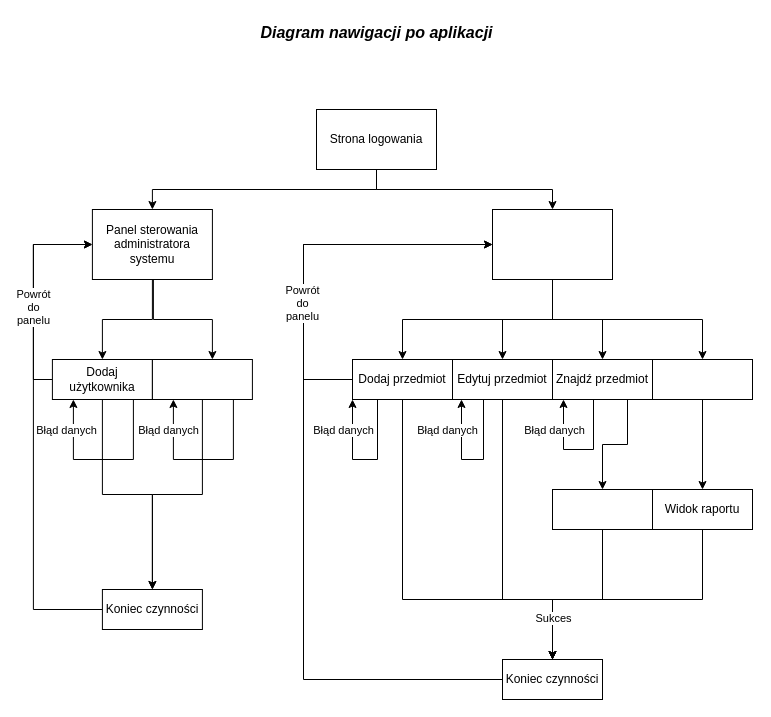
Image size: 771x717. Some labels were removed from this diagram. Each missing label, with the centre of its shape:
Edytuj użytkownika: (201,379)
Generuj raport: (702,379)
Panel sterowania operatora magazynu: (552,244)
Pokaż lokalizacje w magazynie: (602,509)
